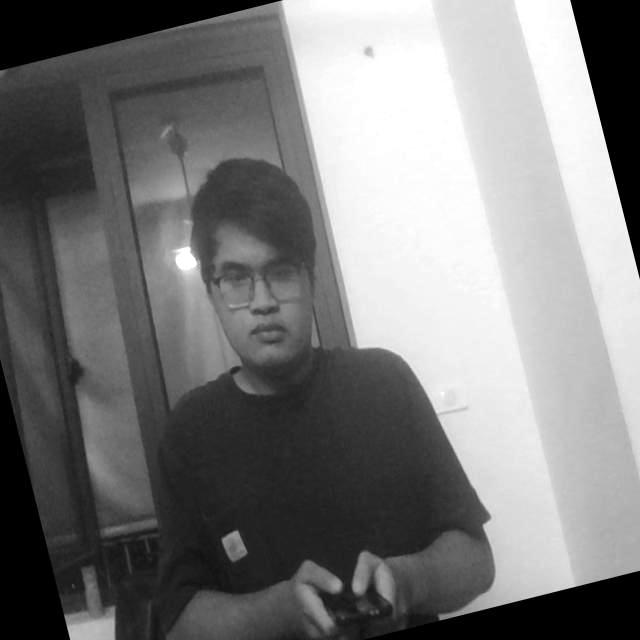phone: (309, 552, 399, 640)
